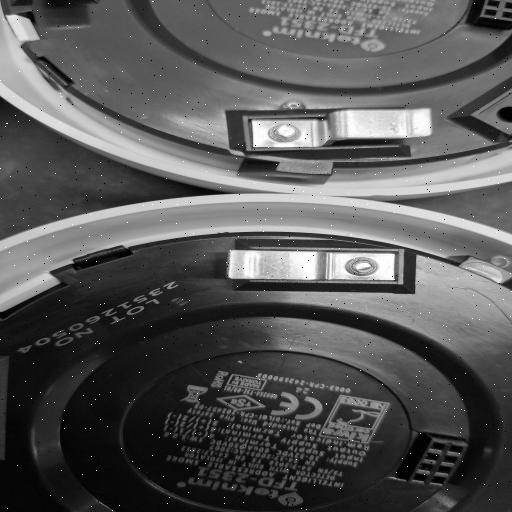konnektor: (393, 422, 477, 494)
yaysiz: (218, 99, 452, 162), (191, 236, 420, 290)
